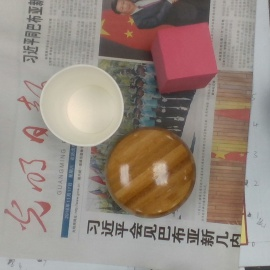chess: (105, 127, 195, 218)
cup: (39, 64, 124, 147)
